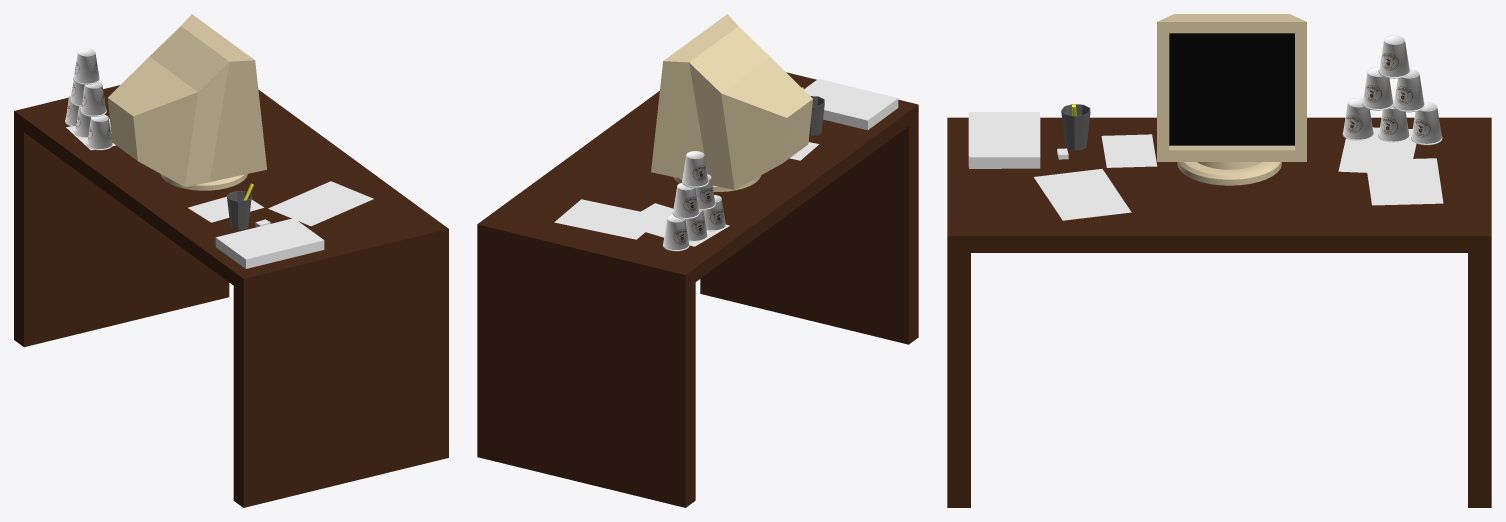
The model's file is desk.glb.
3 renders of one model, left to right at view 1: azimuth 30°, elevation 25°; view 2: azimuth 150°, elevation 25°; view 3: azimuth 270°, elevation 25°, orthographic. The views are drawn at different scales.
Parts seen in each view (by area): view 1: Desk, Ordi, Plane.007_0, Plane.001_0, Circle.001_0, Gobelet.010, Gobelet, Plane.006_0, Gobelet.009, Cylinder; view 2: Desk, Ordi, Plane.007_0, Plane.003_0, Plane.002_0, Gobelet.010, Gobelet.002, Gobelet.007, Gobelet, Gobelet.001, Circle.001_0; view 3: Desk, Ordi, Plane.007_0, Plane.001_0, Plane.003_0, Plane.002_0, Cylinder, Plane.006_0, Circle.001_0, Gobelet.010, Gobelet.002, Gobelet (+3 smaller).
Part boxes in pixels (x1,y1,x2,y2): Desk: (14,85,448,507); Ordi: (107,14,266,187); Plane.007_0: (215,218,324,268); Plane.001_0: (268,181,373,226); Circle.001_0: (227,191,251,230); Gobelet.010: (73,48,99,84); Gobelet: (86,114,112,150); Plane.006_0: (188,196,263,222); Gobelet.009: (80,81,106,116); Cylinder: (160,174,247,190); Desk: (477,72,918,507); Ordi: (651,14,812,189); Plane.007_0: (804,78,898,130); Plane.003_0: (554,199,645,239); Plane.002_0: (620,203,729,246); Gobelet.010: (681,151,708,187); Gobelet.002: (662,215,689,251); Gobelet.007: (672,183,699,219); Gobelet: (703,195,726,231); Gobelet.001: (685,210,707,241); Circle.001_0: (809,96,824,135); Desk: (947,117,1491,507); Ordi: (1157,14,1306,161); Plane.007_0: (968,112,1040,168); Plane.001_0: (1034,169,1131,220); Plane.003_0: (1367,158,1443,205); Plane.002_0: (1338,127,1416,174); Cylinder: (1177,162,1281,185); Plane.006_0: (1101,134,1157,167); Circle.001_0: (1061,104,1090,150); Gobelet.010: (1378,35,1410,78); Gobelet.002: (1411,102,1442,145); Gobelet: (1342,98,1373,140).
Bounding box in the file's own units: 1.27 × 2.09 × 2.42.
8 materials, 1 textured.
